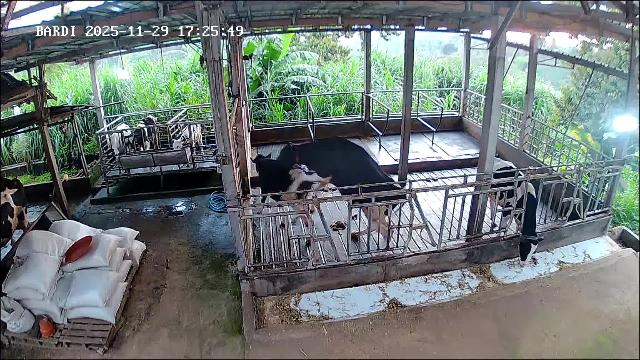mounting: (275, 137, 406, 245)
